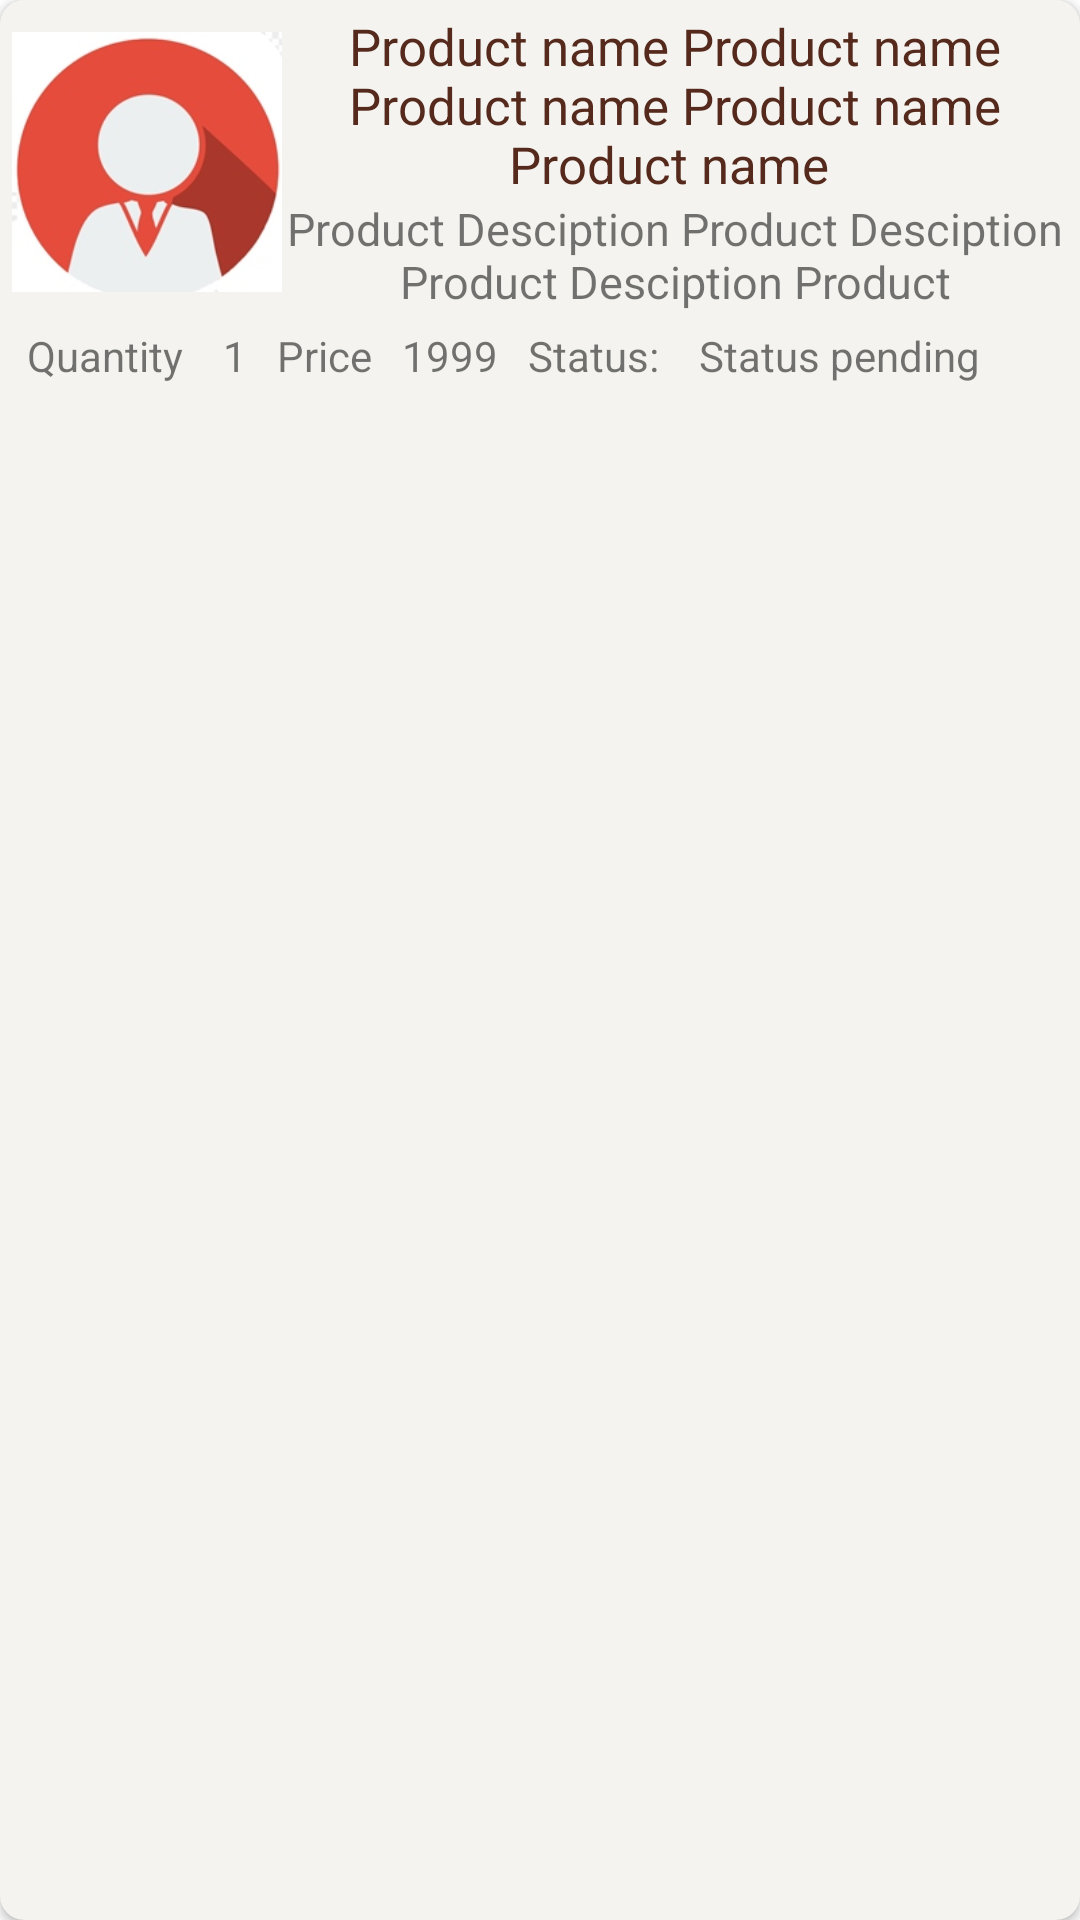

Icons on this 1080×1920 Android screen, each with its box as (x1, y1, x2, y2):
pimg: (16, 38, 280, 277)
